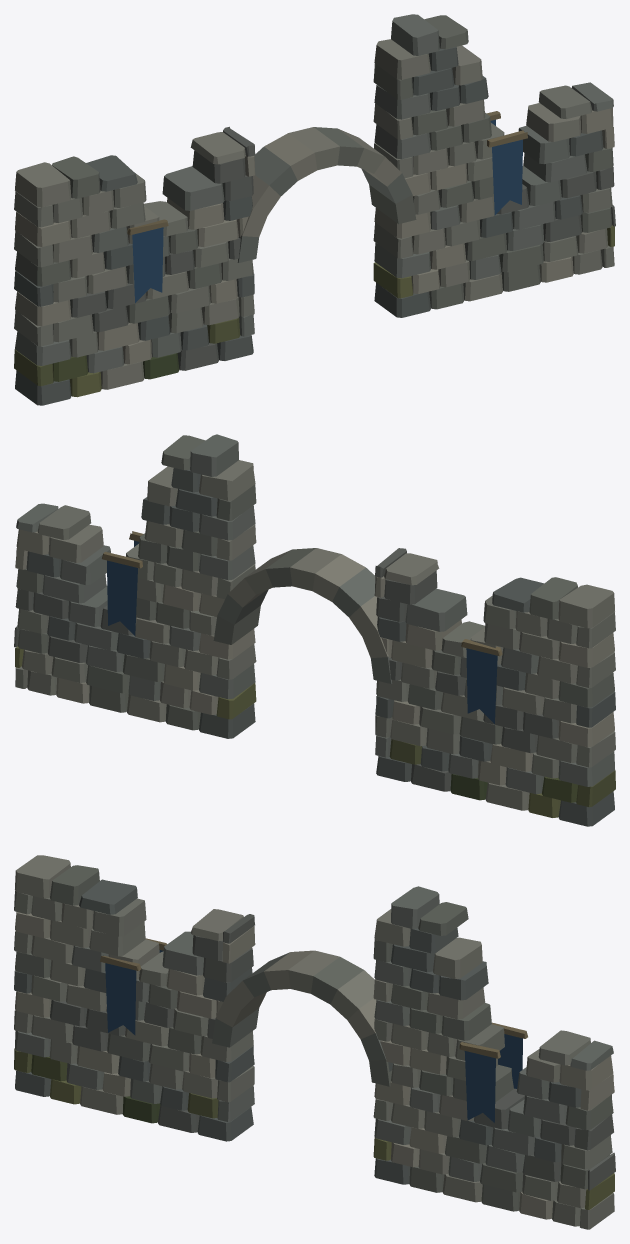
Rendered from fallen-keep-gate.glb.
The picture shows the model from 3 angles, top to bottom: view 1: azimuth 30°, elevation 25°; view 2: azimuth 150°, elevation 25°; view 3: azimuth 330°, elevation 25°; orthographic projection.
Visible parts, largest first — view 1: FallenKeep_BreachedGatehouse; view 2: FallenKeep_BreachedGatehouse; view 3: FallenKeep_BreachedGatehouse.
Part boxes in pixels (x1,y1,x2,y2): FallenKeep_BreachedGatehouse: [14, 14, 615, 405]; FallenKeep_BreachedGatehouse: [14, 434, 615, 826]; FallenKeep_BreachedGatehouse: [14, 855, 615, 1229].
Size of the model in its own units: 14.01 by 6.43 by 1.27.
